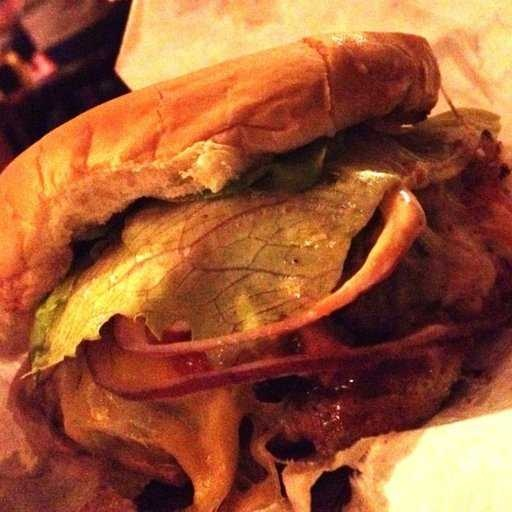hamburger: (1, 31, 464, 493)
